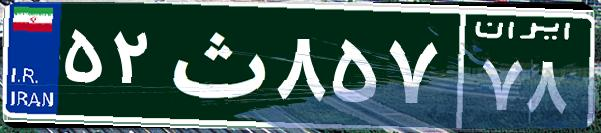2: (110, 28, 158, 105)
5: (330, 28, 385, 110), (57, 26, 110, 107)
7: (385, 28, 445, 110), (475, 38, 525, 113)
8: (273, 28, 330, 110), (525, 38, 570, 115)
ث: (158, 15, 273, 115)
